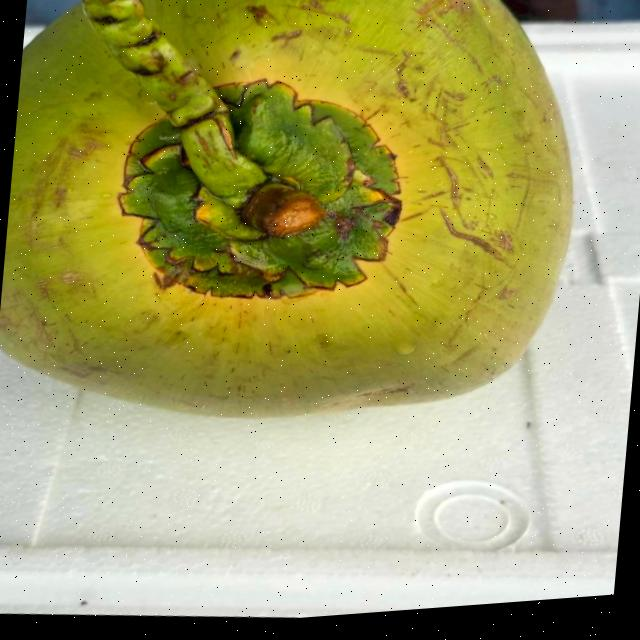coco_2.0: (64, 21, 476, 383)
